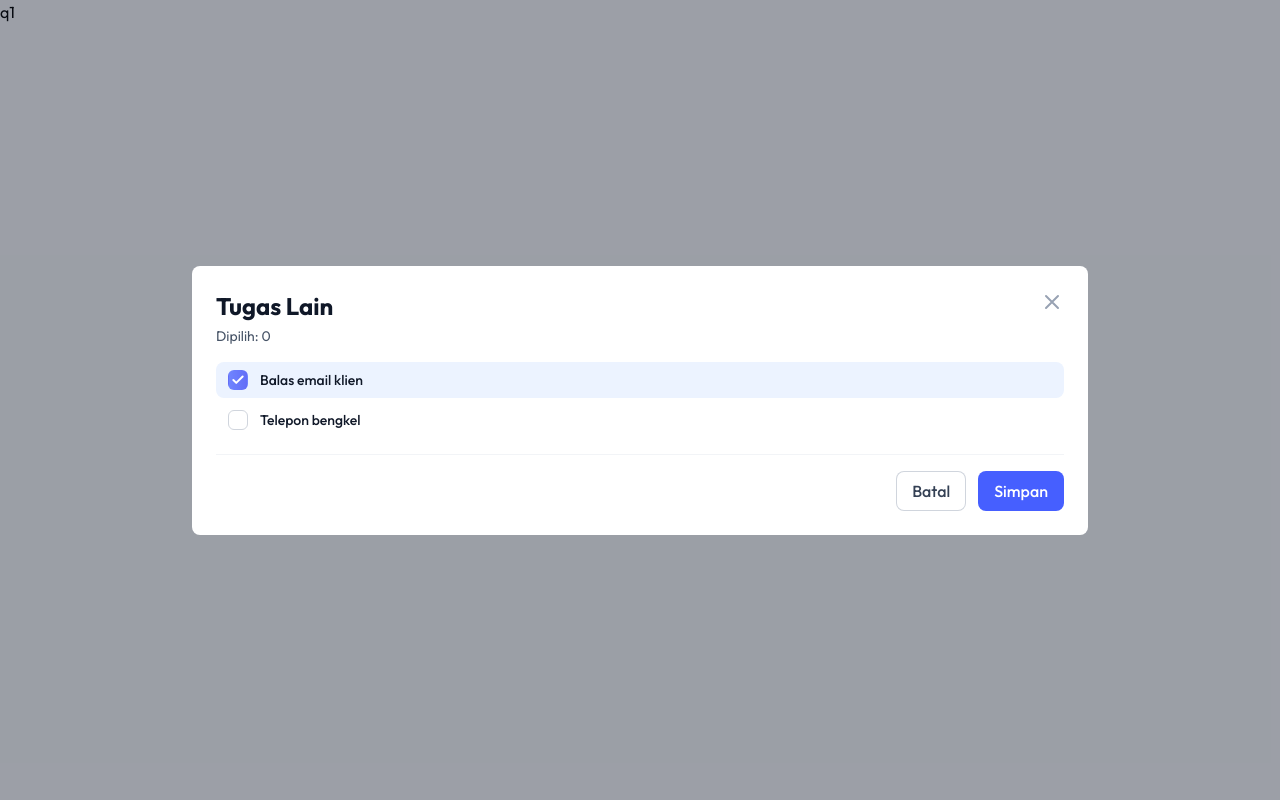
SideQuestModal (bug 7 Okt 2026: Side Quest tidak bisa dipilih) › klik teks quest juga memilih
Click the text "Telepon bengkel": (310, 420) [260, 410, 361, 428]
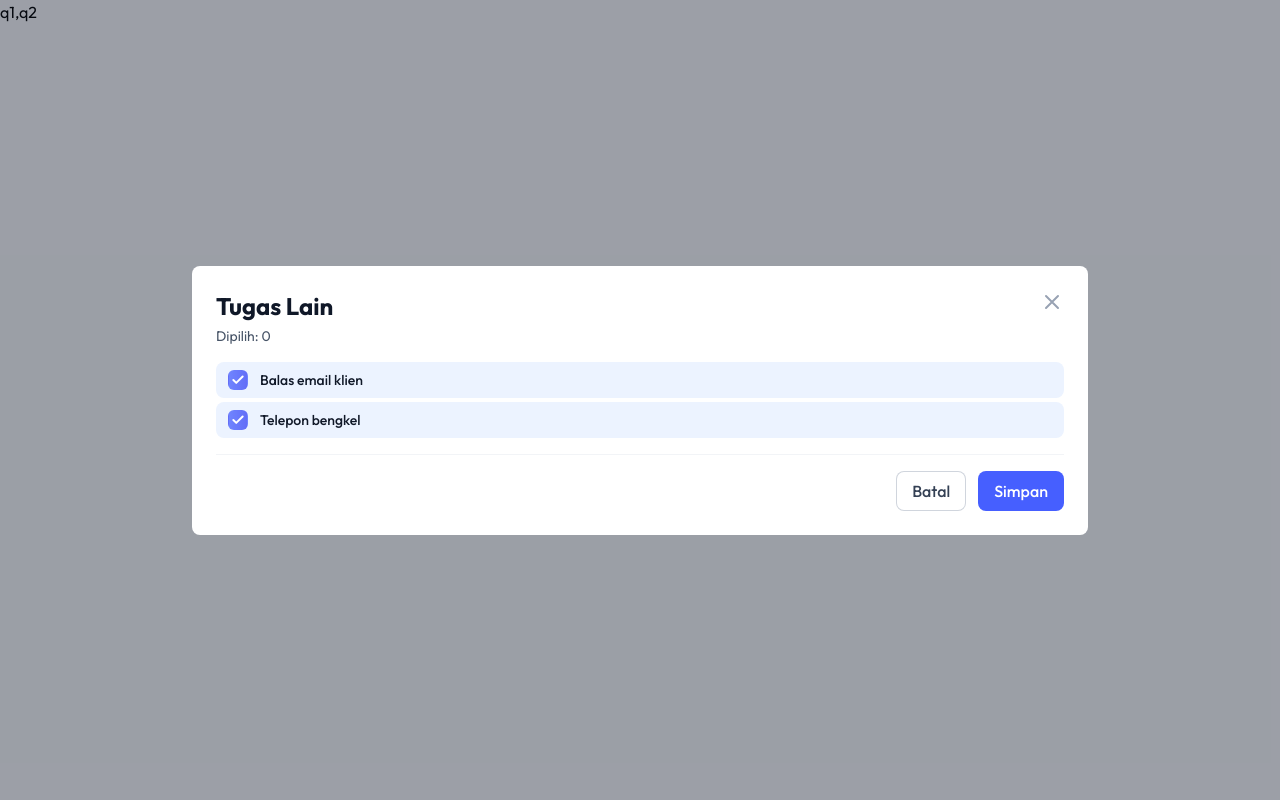
Result: the text with test id "picks" reads "q1,q2" at [0, 2, 37, 22]
